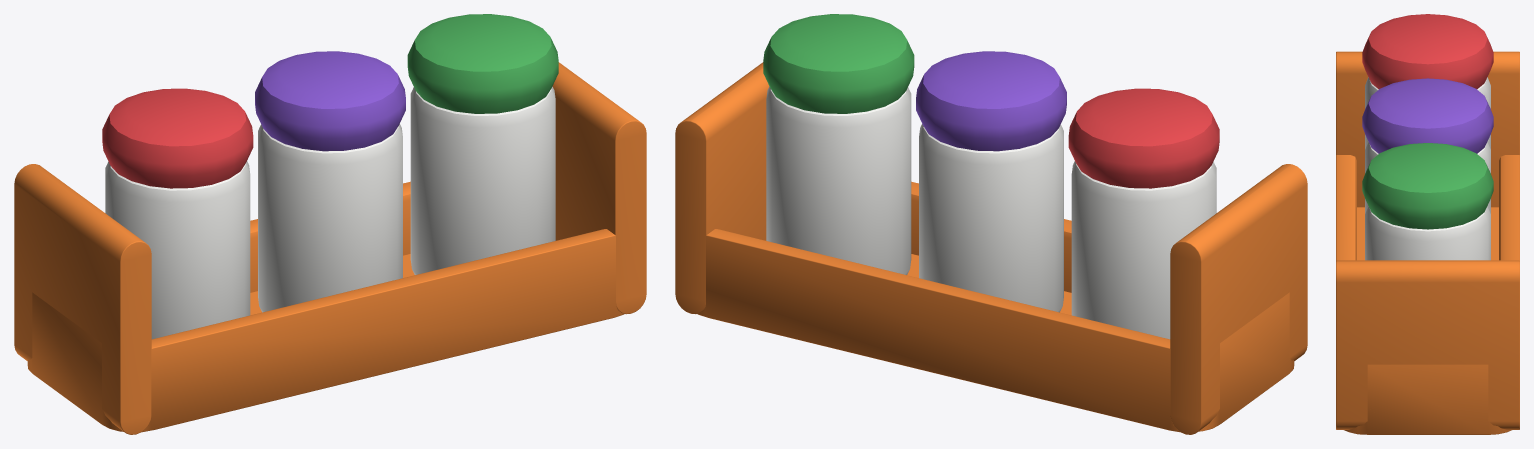
Rendered from porta_temperos.glb.
3 views of the same model, side by side, from view 1: azimuth 30°, elevation 25°; view 2: azimuth 150°, elevation 25°; view 3: azimuth 270°, elevation 25° (orthographic). The views are drawn at different scales.
Visible parts, largest first — view 1: porta_temperos; view 2: porta_temperos; view 3: porta_temperos.
Part boxes in pixels (bbox=[...]): porta_temperos: bbox=[14, 14, 646, 434]; porta_temperos: bbox=[675, 14, 1307, 434]; porta_temperos: bbox=[1336, 14, 1519, 434].
Bounding box in the file's own units: 0.2 × 0.095 × 0.07.
Materials: 1 (1 with a texture image).
